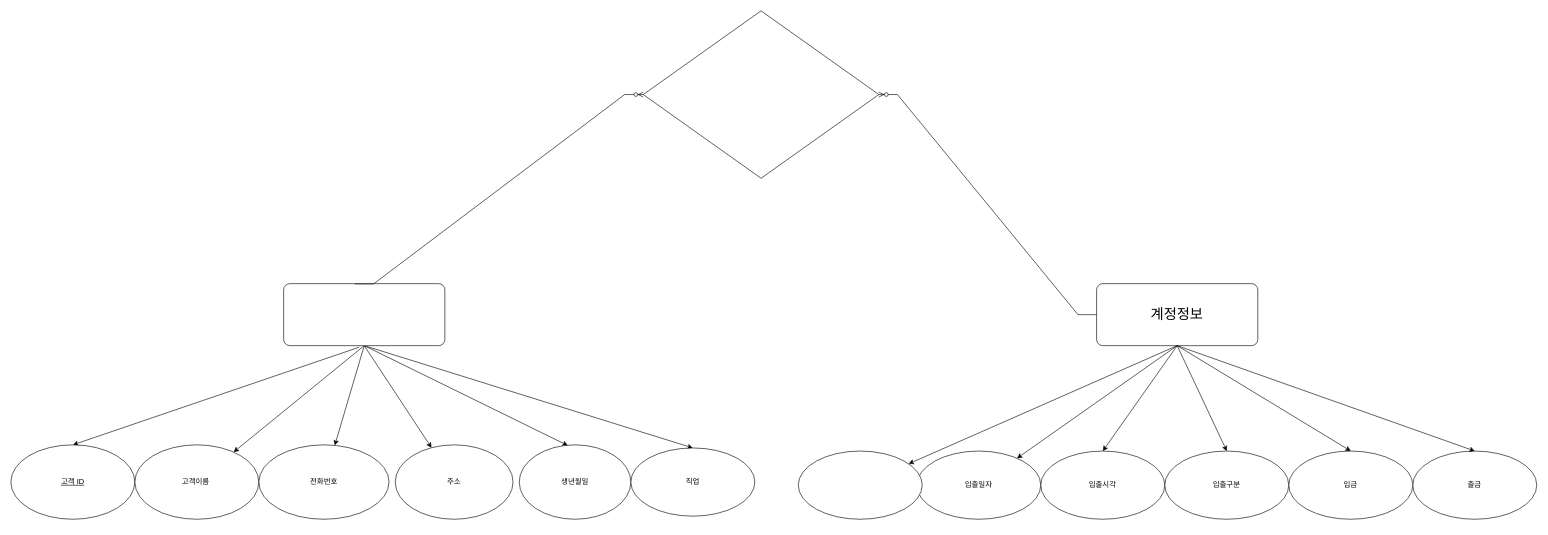
Image size: 1548x535. Some labels were removed from this diagram. Here are the shapes that lost their labels. From the top down, the box of each, then its label:
(643, 10, 879, 178): 거래내역
(283, 283, 445, 346): 고객정보
(798, 450, 922, 519): 계좌번호
